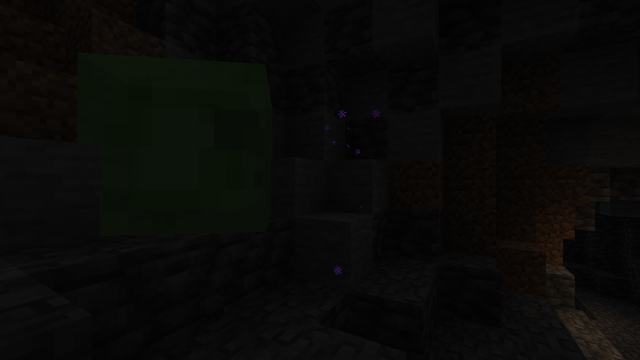slimes: (87, 29, 298, 243)
